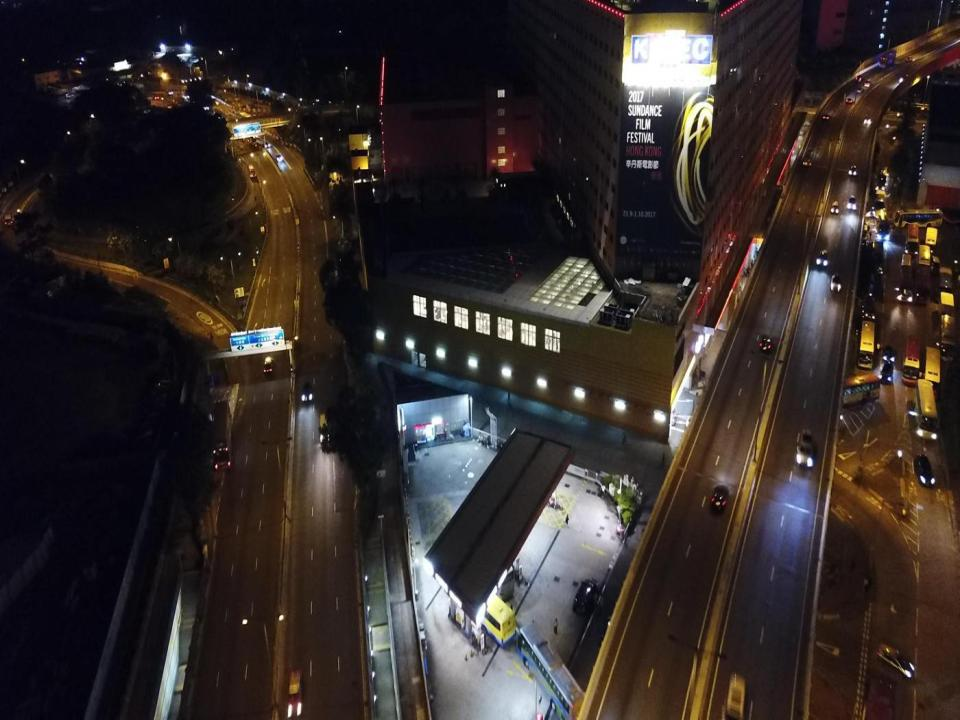bus: (516, 620, 590, 719), (449, 574, 516, 648), (829, 373, 880, 407), (913, 380, 938, 440), (213, 399, 232, 471), (893, 208, 943, 228), (923, 345, 940, 402), (902, 336, 921, 386), (857, 321, 875, 368), (898, 253, 914, 303), (939, 314, 955, 364), (917, 244, 930, 304), (936, 262, 952, 302), (904, 224, 919, 257), (925, 228, 937, 258), (879, 49, 896, 68)
car: (877, 644, 915, 678), (723, 673, 745, 719), (288, 667, 303, 716), (913, 453, 934, 487), (798, 428, 812, 468), (710, 485, 729, 510), (862, 293, 874, 319), (880, 363, 894, 384), (301, 383, 312, 403), (760, 336, 772, 353), (830, 274, 841, 292), (817, 249, 827, 268), (883, 345, 894, 362), (264, 356, 274, 374), (847, 196, 856, 210), (830, 201, 839, 214), (850, 164, 856, 178), (864, 116, 872, 124), (214, 113, 222, 120), (249, 132, 258, 138), (823, 114, 830, 121), (276, 152, 282, 160), (262, 142, 269, 148), (202, 104, 209, 110), (846, 98, 853, 104), (864, 81, 871, 87), (856, 75, 862, 82), (856, 88, 864, 93), (906, 57, 913, 62), (167, 90, 173, 95), (183, 94, 188, 99), (153, 95, 159, 99)
truck: (940, 292, 954, 322)
van: (572, 578, 596, 615), (319, 414, 329, 442), (878, 220, 889, 240), (932, 256, 940, 275), (804, 150, 813, 165), (4, 213, 13, 226), (248, 164, 255, 178)
